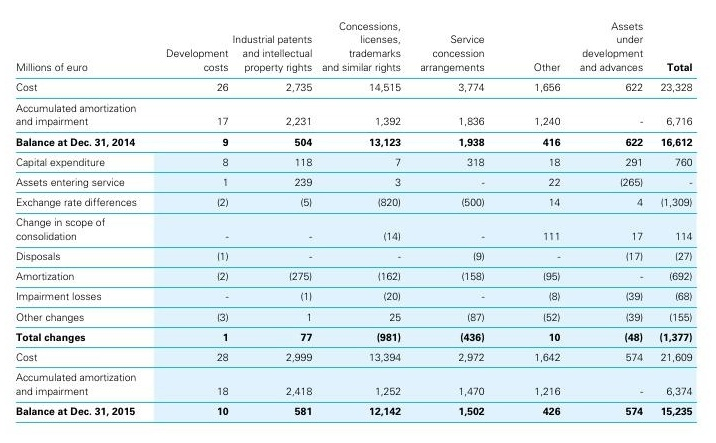table: (0, 0, 716, 443)
